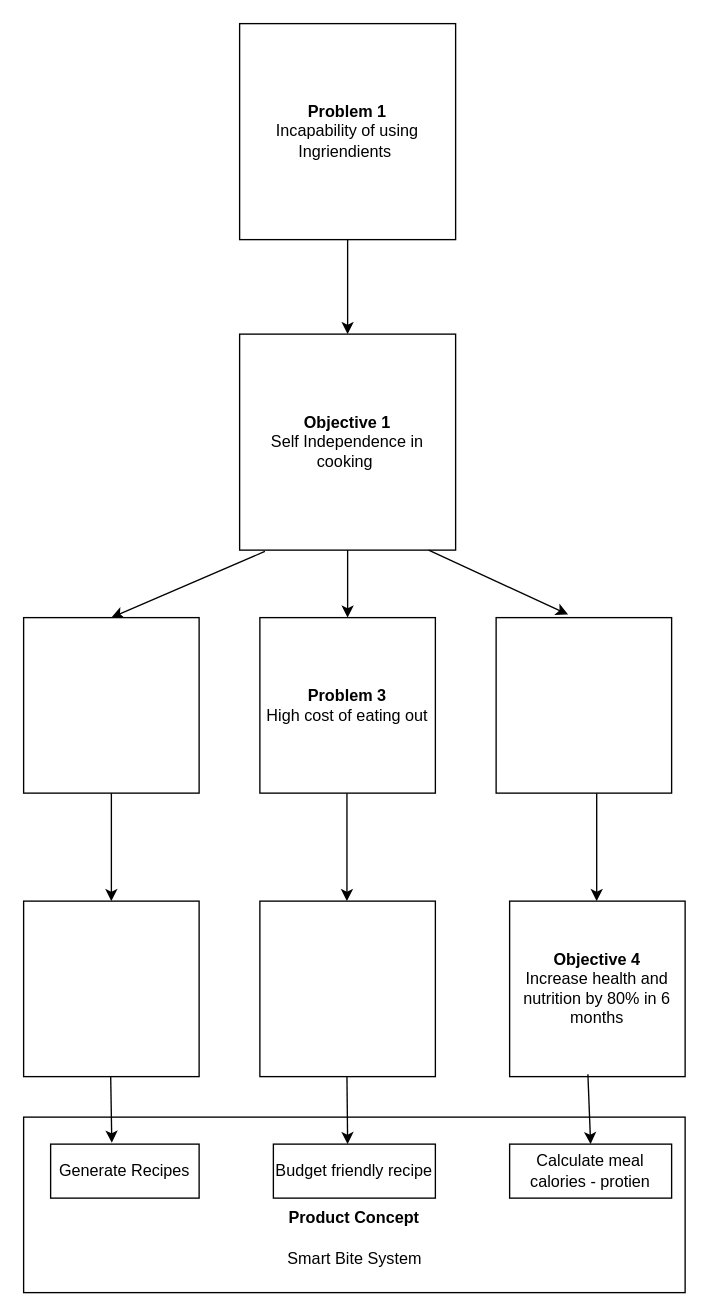
This 709x1316 diagram has some shape labels left out. The shapes that lost their labels are listed below. From the top down, each one's centre as x and y in pixels, then its label:
At (110,704): "Problem 2 Food waste".
At (583,704): "Problem 4 Health and nutrition issues".
At (110,988): "Objective 2 Reduce food waste by 90% within 1 month".
At (347,988): "Objective 3 Reduce cost of eating out by 70% within 2 months".
